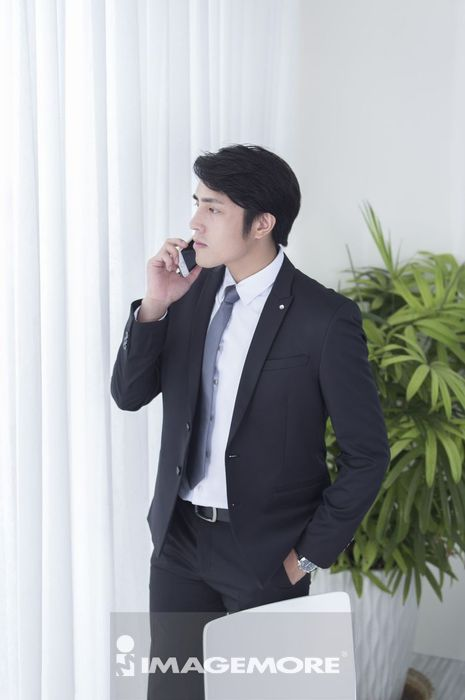phone: (176, 237, 197, 278)
talk: (145, 190, 234, 314)
